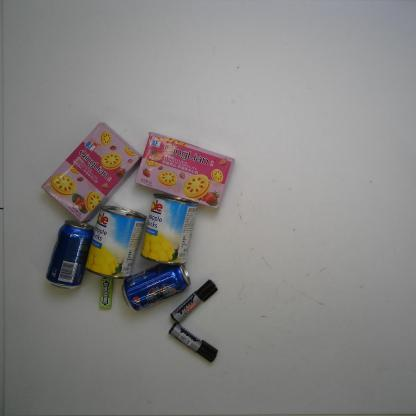Canned Food: (84, 204, 148, 280), (140, 192, 200, 266)
Dessert: (40, 121, 143, 224), (134, 131, 236, 210)
Drink: (45, 218, 94, 291), (121, 263, 192, 313)
Gum: (98, 276, 114, 310)
Stationery: (169, 278, 219, 324), (168, 322, 219, 364)
